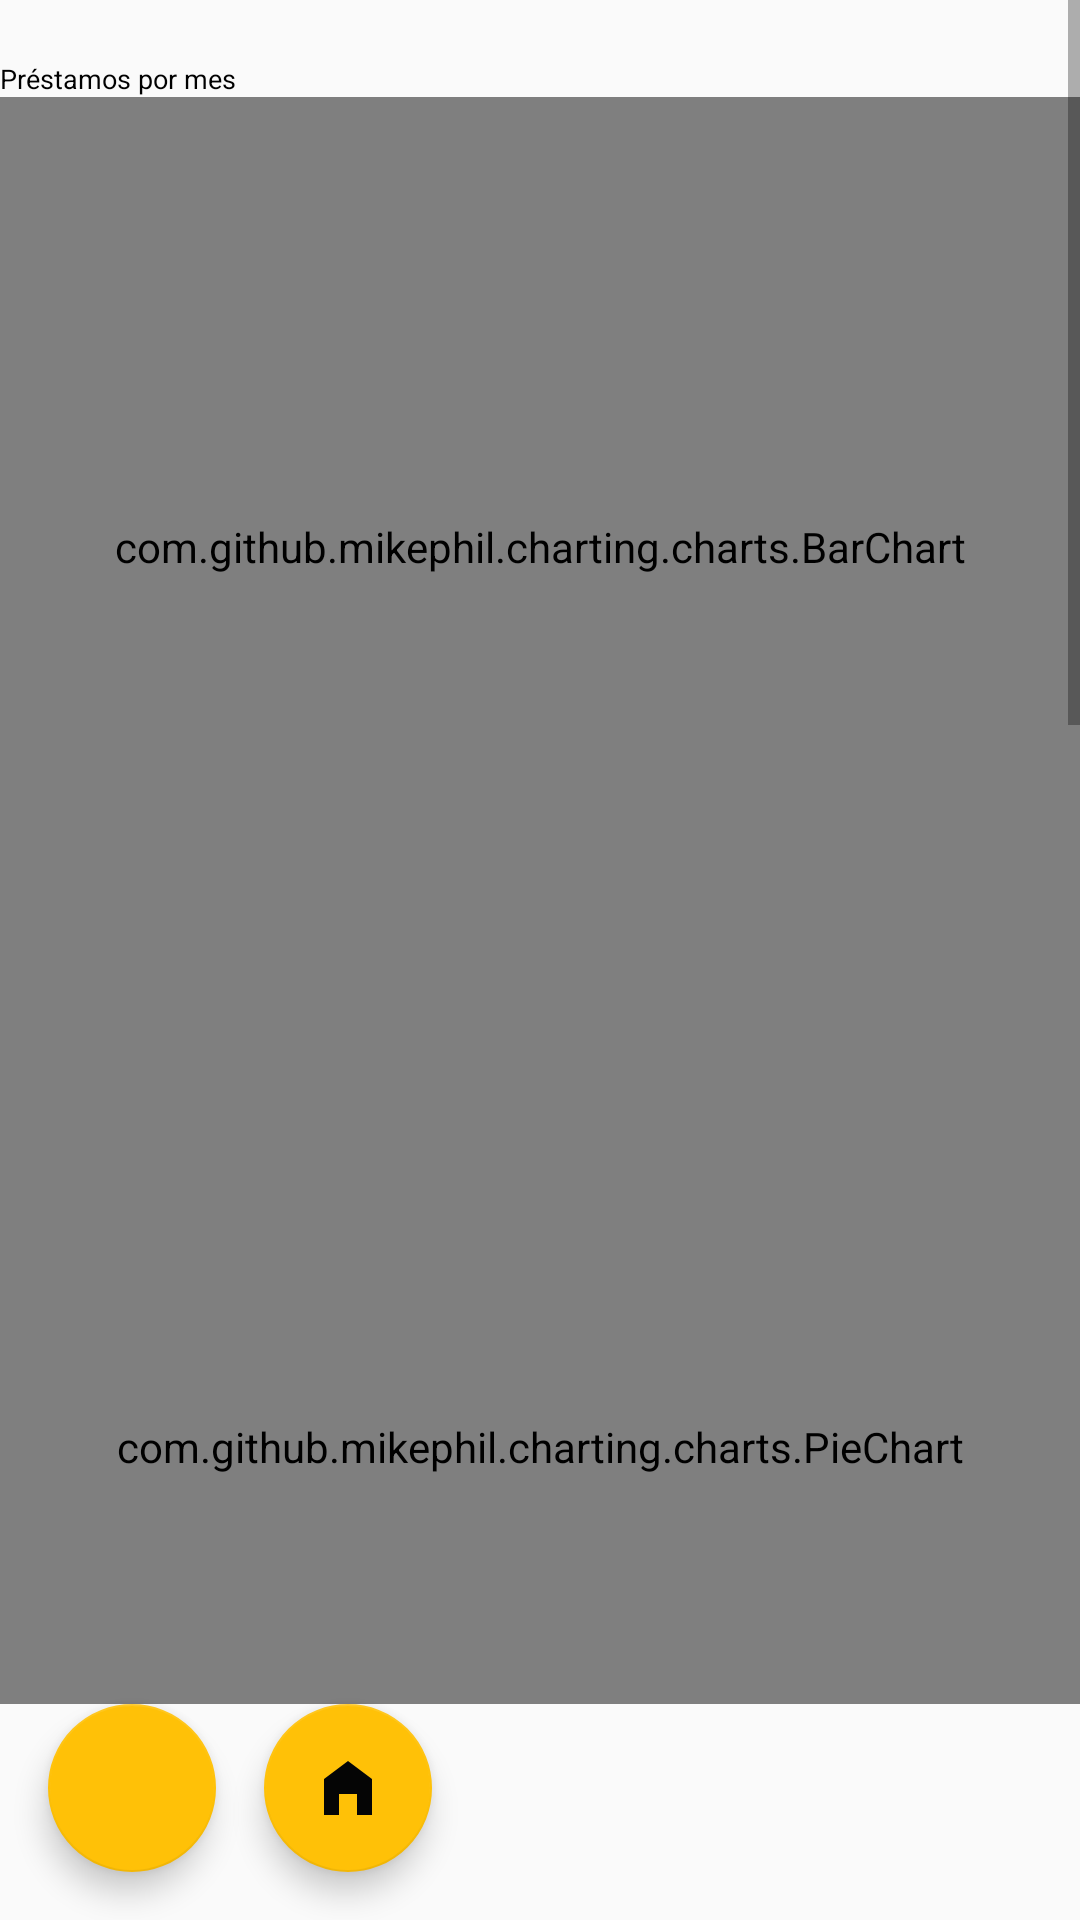

Point at icon controls on the screen. Image size 1080×1920, points as point (x, y).
home: point (348, 1788)
